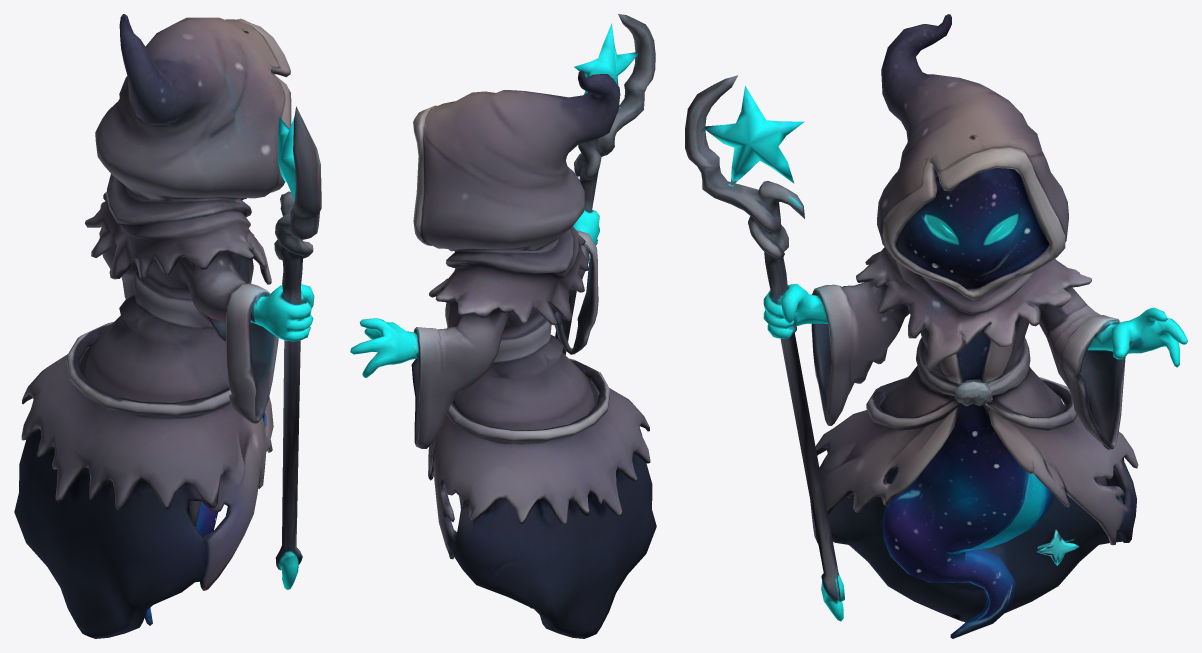
The model's file is sstar.glb.
3 renders of one model, left to right at view 1: azimuth 30°, elevation 25°; view 2: azimuth 150°, elevation 25°; view 3: azimuth 270°, elevation 25°, orthographic. The views are drawn at different scales.
Parts seen in each view (by area): view 1: tripo_node_eb3af1fd-401f-421c-a504-62c9bd93d39b; view 2: tripo_node_eb3af1fd-401f-421c-a504-62c9bd93d39b; view 3: tripo_node_eb3af1fd-401f-421c-a504-62c9bd93d39b.
Part boxes in pixels (x1,y1,x2,y2): tripo_node_eb3af1fd-401f-421c-a504-62c9bd93d39b: (14,14,321,638); tripo_node_eb3af1fd-401f-421c-a504-62c9bd93d39b: (350,14,656,638); tripo_node_eb3af1fd-401f-421c-a504-62c9bd93d39b: (685,14,1187,638).
Bounding box in the file's own units: 0.366 × 0.979 × 0.7223.
1 material, 1 textured.
